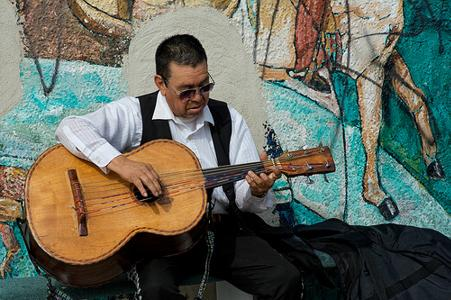person: (56, 34, 308, 299)
